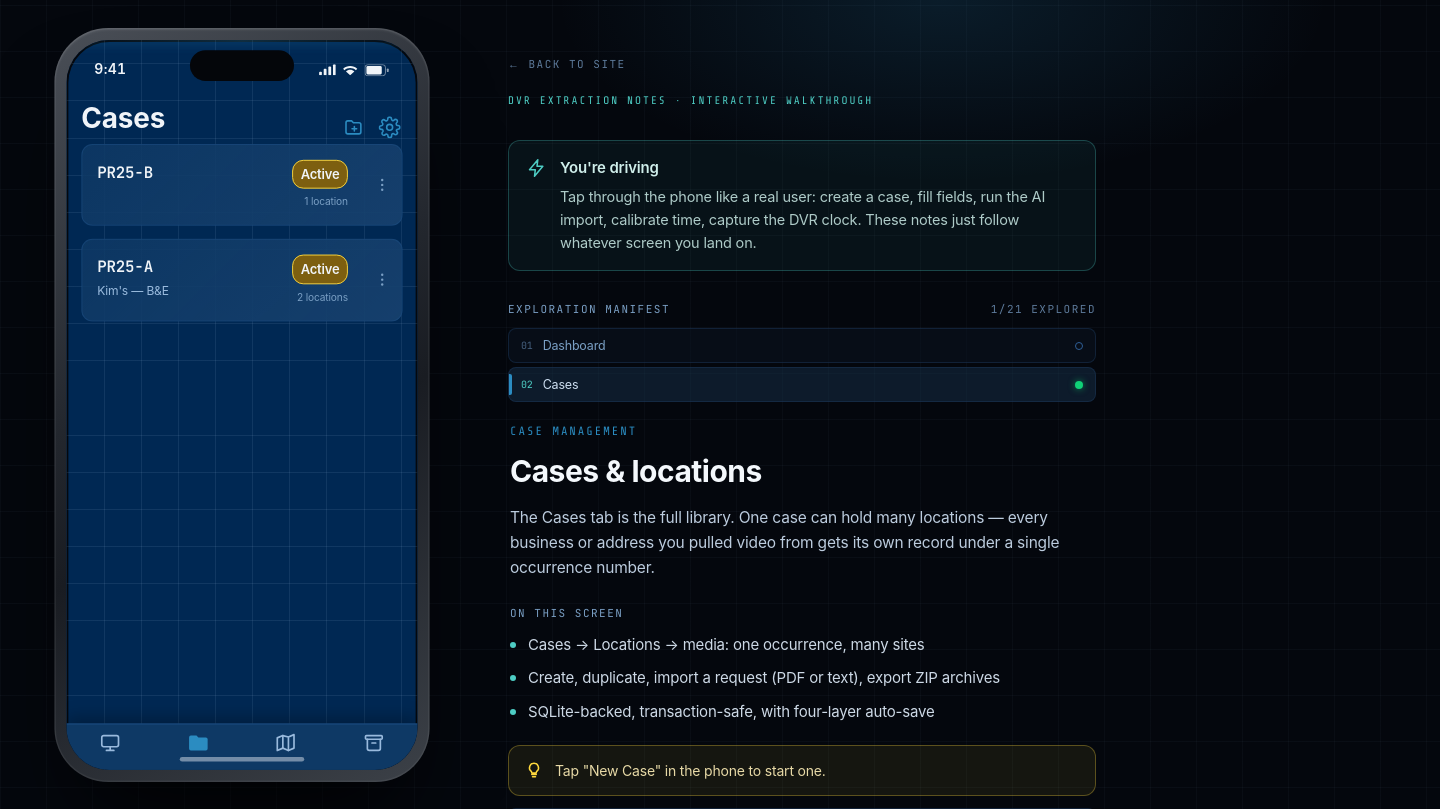
it: DemoExperience — delete a case › confirms with the case number and the locations that go with it, then deletes
The image size is (1440, 809).
Click the button named "Actions for case PR25-A" at (382, 280), box [363,240,402,320]
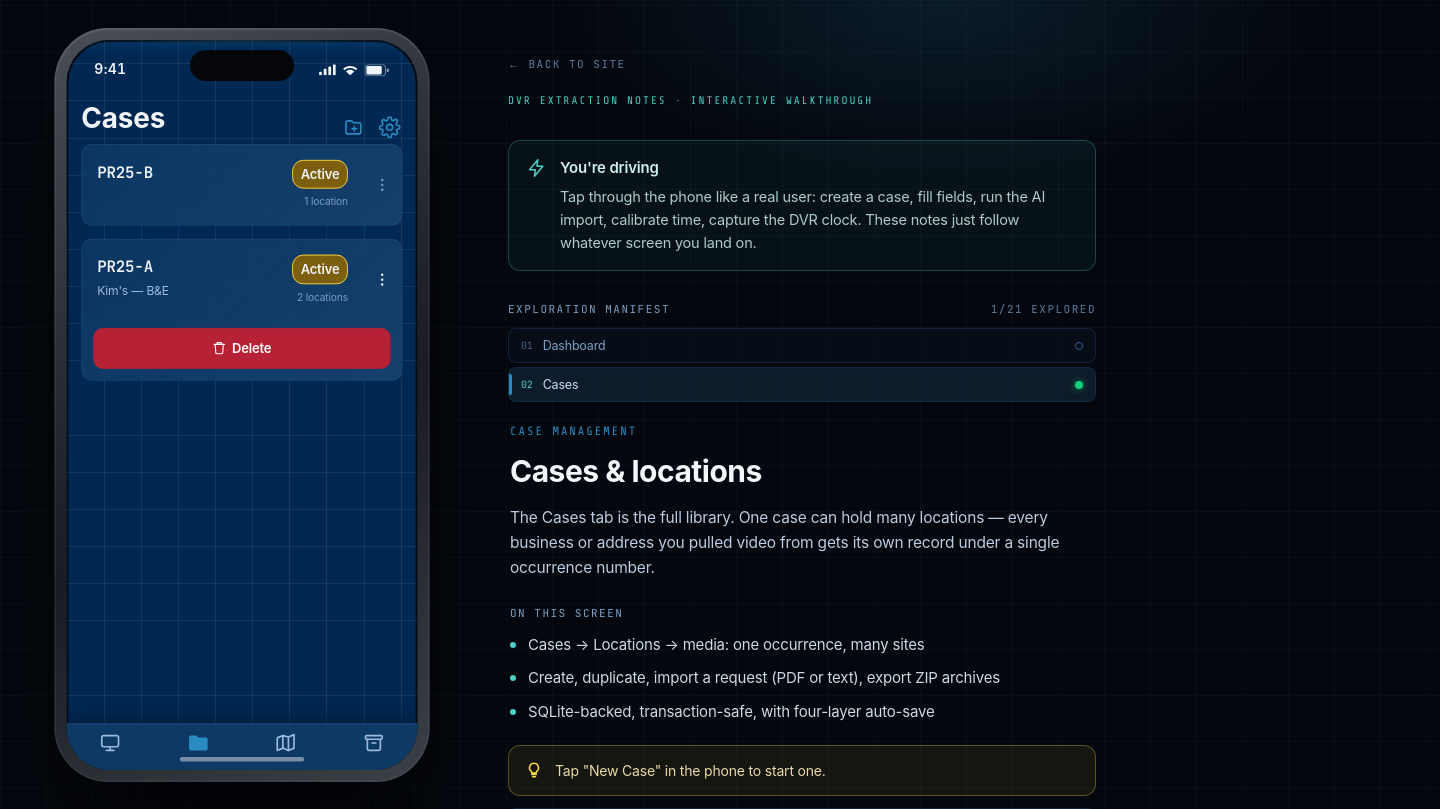
Click the button "Delete" at (242, 348), box [93,328,390,368]
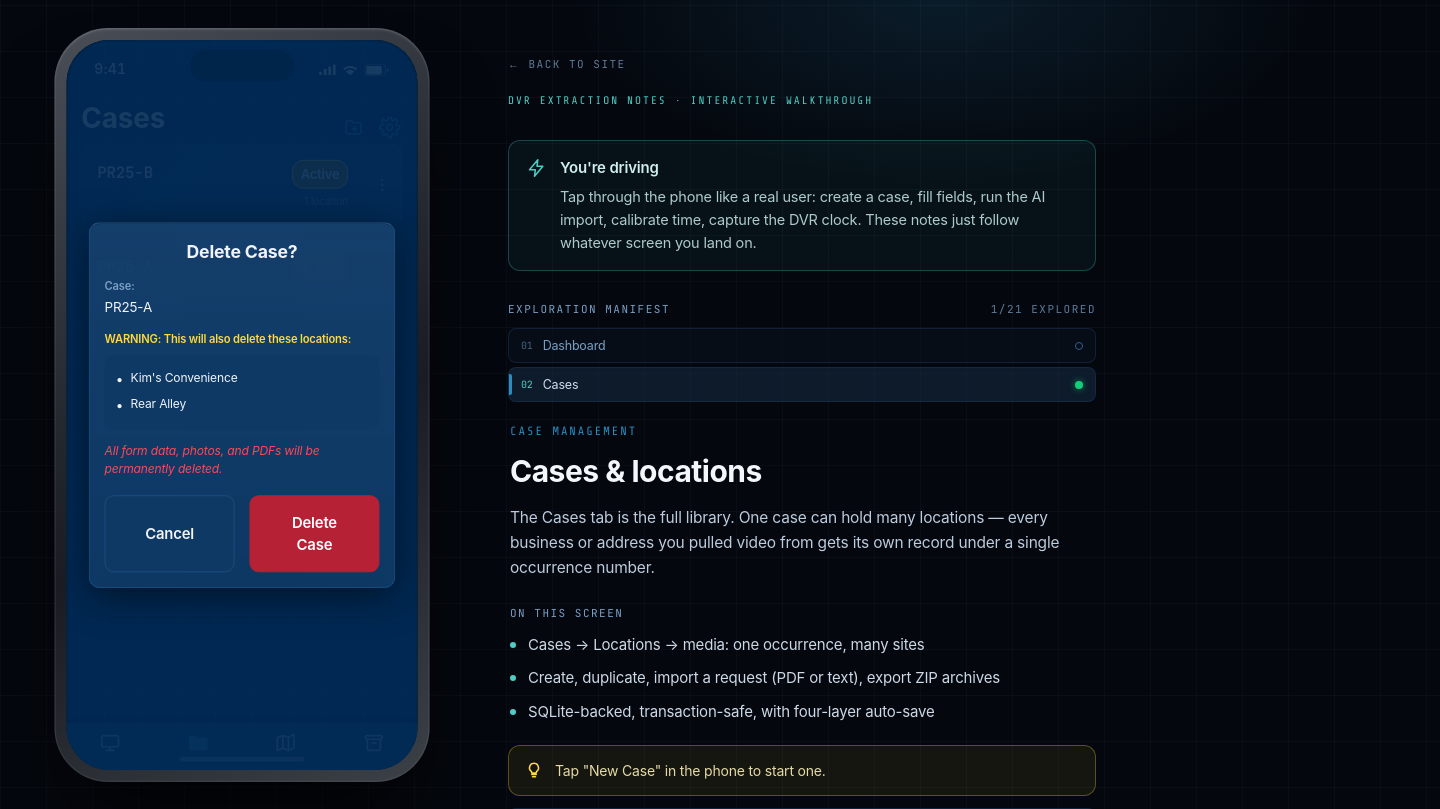
Expected: the text "Delete Case?" is shown, [186,241,298,262]
Expected: the text "WARNING: This will also delete these locations:" is shown, [105,331,380,348]
Expected: the element with test id "location-list-scroll" shows "Kim's Convenience", [130,370,238,385]
Click the button with test id "delete-modal-confirm" at (314, 533), box [249,495,379,572]
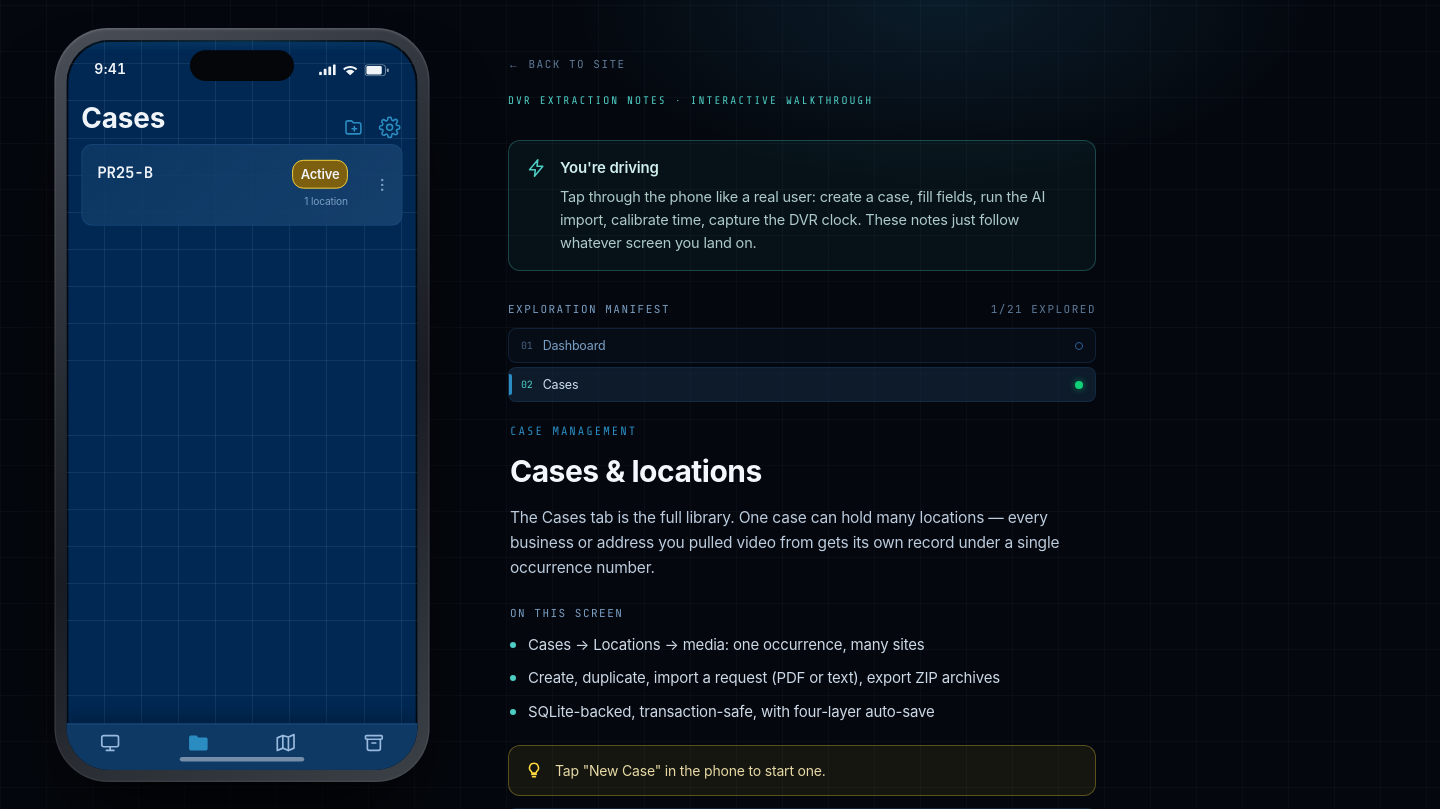
Expected: the text "PR25-B" is shown, [97,162,153,182]
Expected: the dialog is gone
Expected: the button "PR25-A" is gone
